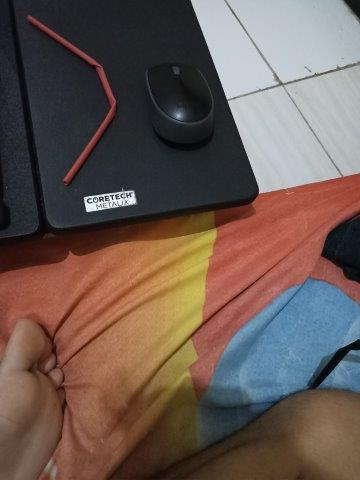sedotan: (27, 16, 116, 185)
